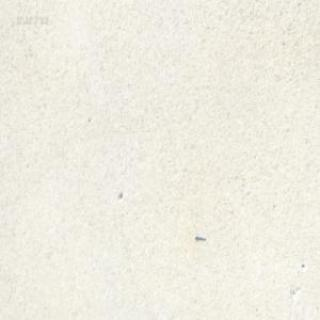Nailtrack_idkeyframe: (193, 233, 205, 242)
